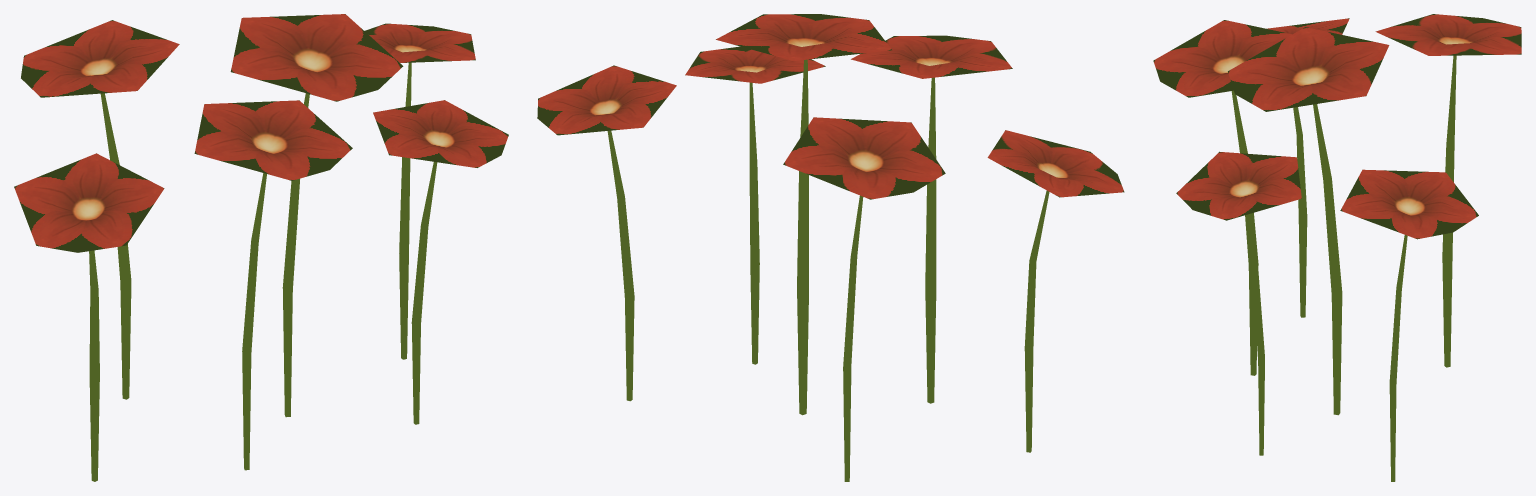
File: flowers_04.fbx
The picture shows the model from 3 angles, left to right: view 1: azimuth 30°, elevation 25°; view 2: azimuth 150°, elevation 25°; view 3: azimuth 270°, elevation 25°; orthographic projection. The views are drawn at different scales.
Visible parts, largest first — view 1: flowers_04; view 2: flowers_04; view 3: flowers_04.
Boxes of the visible parts, left/top/right/bottom form: flowers_04: left=14, top=14, right=508, bottom=481; flowers_04: left=537, top=14, right=1124, bottom=481; flowers_04: left=1153, top=14, right=1521, bottom=481.
Size of the model in its own units: 85.1 by 60.39 by 55.93.
